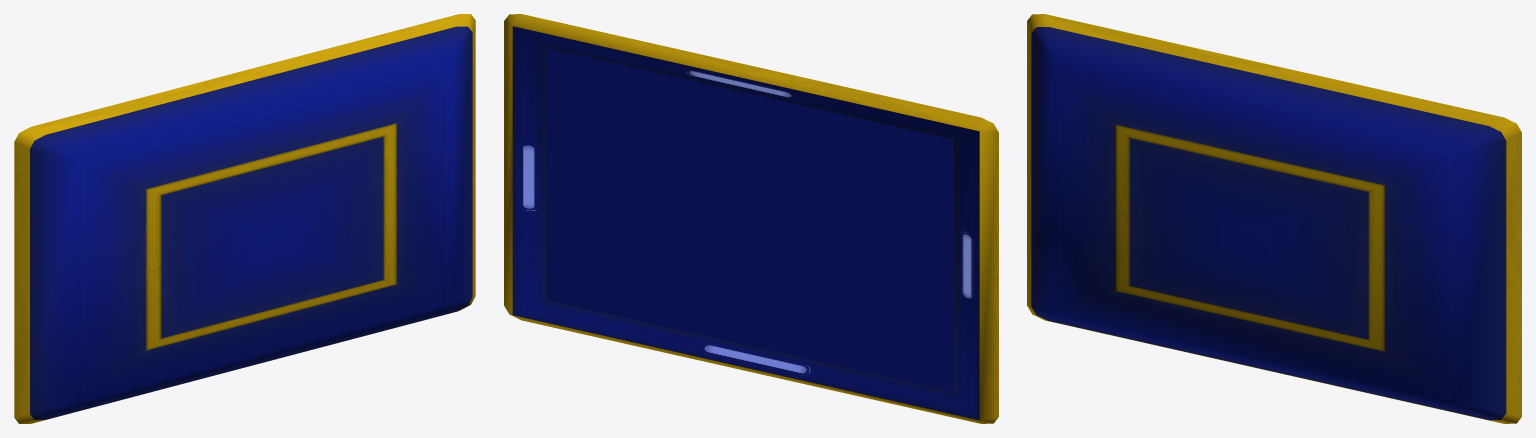
The model's file is s0_HorizontalBoard_Art_01.gltf.
The picture shows the model from 3 angles, left to right: view 1: azimuth 30°, elevation 25°; view 2: azimuth 150°, elevation 25°; view 3: azimuth 330°, elevation 25°; orthographic projection. The views are drawn at different scales.
Visible parts, largest first — view 1: node_HorizontalBoard_Art; view 2: node_HorizontalBoard_Art; view 3: node_HorizontalBoard_Art.
Boxes of the visible parts, x1,y1,x2,y2 form: node_HorizontalBoard_Art: (14,14,475,423); node_HorizontalBoard_Art: (504,14,998,423); node_HorizontalBoard_Art: (1027,14,1521,423).
Bounding box in the file's own units: 5.87 × 3.54 × 0.8723.
